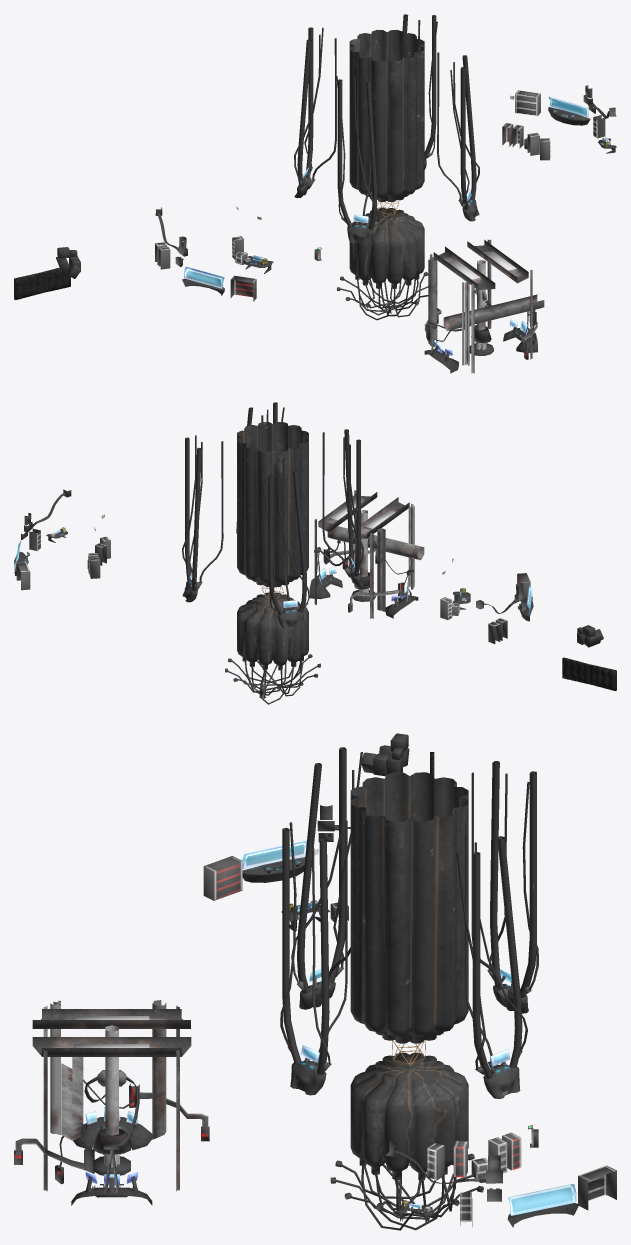
Rendered from core_objects.fbx.
3 views of the same model, one above another, from view 1: azimuth 30°, elevation 25°; view 2: azimuth 150°, elevation 25°; view 3: azimuth 270°, elevation 25° (orthographic). The views are drawn at different scales.
Visible parts, largest first — view 1: CoreObject, CoreMain.002, CoreMain.023, CoreMain.022, CoreMain.024, CoreMain.028, CoreMain.021, CoreMain.029, CoreMain.001, CoreMain.016, CoreMain.007, CoreMain.015 (+2 smaller); view 2: CoreObject, CoreMain.024, CoreMain.002, CoreMain.021, CoreMain.023, CoreMain.028, CoreMain.029, CoreMain.001, CoreMain.122, CoreMain.027, CoreMain.009; view 3: CoreObject, CoreMain.022, CoreMain.021, CoreMain.024, CoreMain.002, CoreMain.023, CoreMain.028, CoreMain.001, CoreMain.029, CoreMain.016, CoreMain.007, CoreMain.006 (+7 smaller).
Boxes of the visible parts, bbox=[...] form: CoreObject: bbox=[337, 29, 428, 320]; CoreMain.002: bbox=[428, 239, 544, 373]; CoreMain.023: bbox=[336, 67, 379, 244]; CoreMain.022: bbox=[437, 52, 479, 221]; CoreMain.024: bbox=[294, 27, 336, 198]; CoreMain.028: bbox=[429, 260, 530, 355]; CoreMain.021: bbox=[402, 14, 437, 169]; CoreMain.029: bbox=[433, 246, 495, 290]; CoreMain.001: bbox=[467, 240, 528, 283]; CoreMain.016: bbox=[548, 96, 590, 125]; CoreMain.007: bbox=[182, 266, 224, 295]; CoreMain.015: bbox=[515, 90, 540, 116]; CoreObject: bbox=[225, 422, 320, 704]; CoreMain.024: bbox=[261, 458, 309, 628]; CoreMain.002: bbox=[314, 490, 424, 618]; CoreMain.021: bbox=[182, 435, 223, 602]; CoreMain.023: bbox=[322, 429, 363, 586]; CoreMain.028: bbox=[314, 510, 413, 602]; CoreMain.029: bbox=[353, 497, 409, 538]; CoreMain.001: bbox=[318, 492, 377, 531]; CoreMain.122: bbox=[309, 567, 342, 599]; CoreMain.027: bbox=[385, 585, 418, 618]; CoreMain.009: bbox=[488, 618, 507, 643]; CoreObject: bbox=[330, 772, 483, 1230]; CoreMain.022: bbox=[280, 820, 347, 1095]; CoreMain.021: bbox=[456, 823, 527, 1099]; CoreMain.024: bbox=[471, 761, 538, 1013]; CoreMain.002: bbox=[43, 1000, 179, 1191]; CoreMain.023: bbox=[291, 747, 362, 1009]; CoreMain.028: bbox=[84, 1025, 139, 1192]; CoreMain.001: bbox=[32, 1037, 191, 1056]; CoreMain.029: bbox=[32, 1009, 190, 1028]; CoreMain.016: bbox=[507, 1184, 579, 1227]; CoreMain.007: bbox=[242, 840, 306, 882]; CoreMain.006: bbox=[203, 856, 242, 900].
Bounding box in the file's own units: 23897 × 10258 × 13212.
